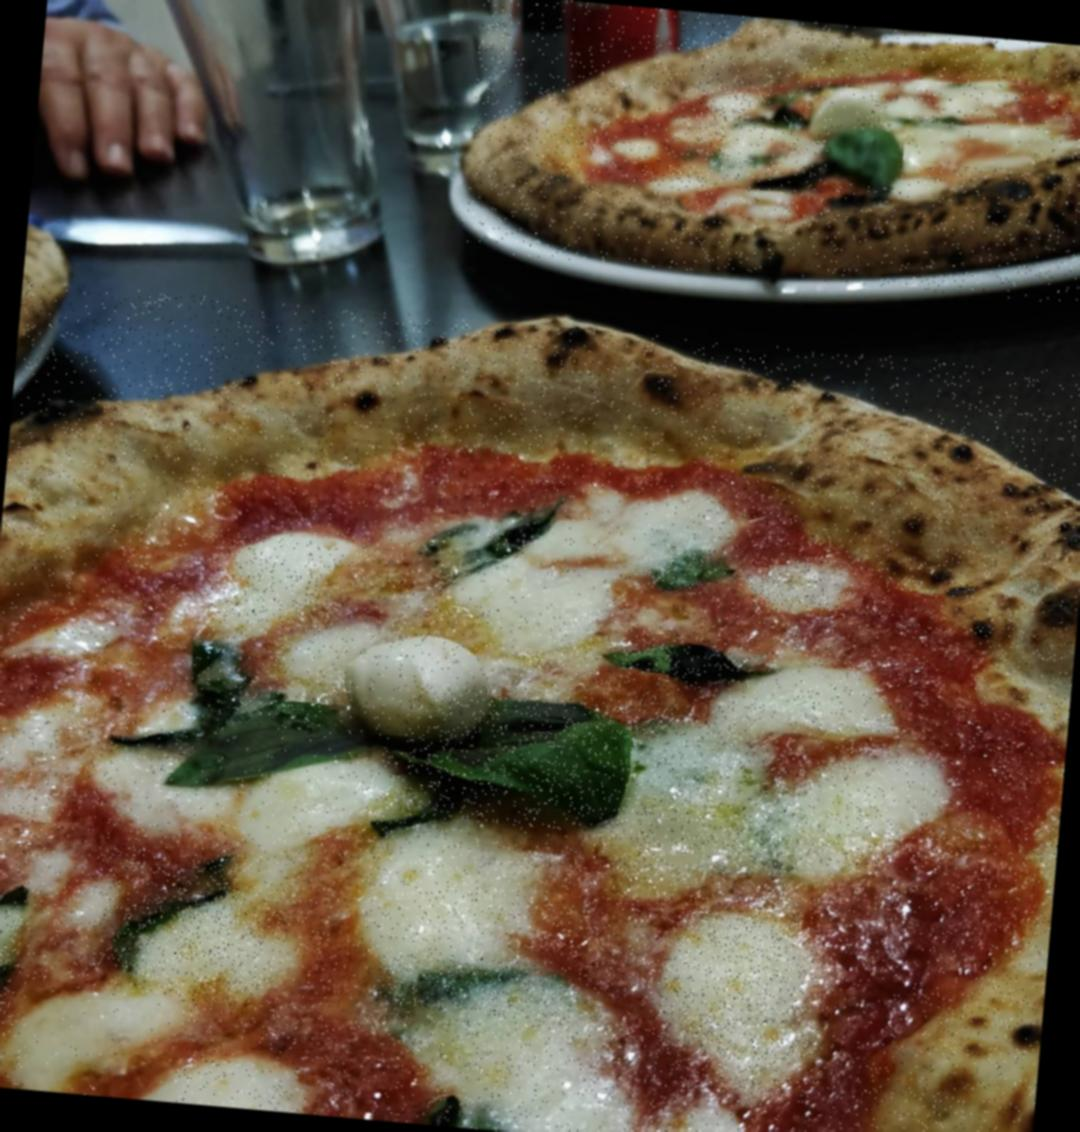Basil: (404, 685, 636, 834), (176, 688, 377, 805), (98, 847, 239, 979), (403, 485, 557, 601), (377, 948, 553, 1023), (619, 629, 731, 683), (188, 634, 250, 733), (825, 127, 904, 187), (0, 885, 26, 1024), (661, 544, 721, 594)
Cheese: (633, 672, 904, 869), (128, 688, 372, 847), (654, 910, 823, 1101), (476, 487, 686, 628), (452, 1006, 641, 1132), (23, 982, 183, 1102), (345, 627, 501, 744), (381, 848, 521, 966), (138, 902, 281, 1005), (198, 533, 336, 629), (0, 700, 93, 825), (903, 121, 1036, 173), (750, 556, 844, 619), (693, 87, 749, 157), (898, 79, 995, 112), (715, 187, 786, 224), (721, 125, 788, 164), (821, 86, 877, 122), (643, 165, 709, 190), (894, 177, 939, 198)
Pizza: (0, 280, 1080, 1132), (459, 0, 1080, 306)
